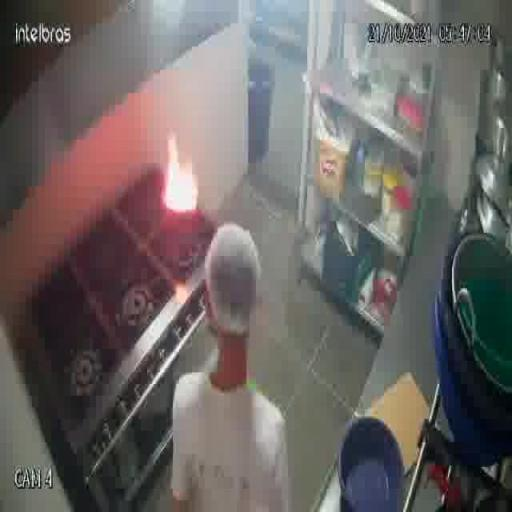smoke: (151, 98, 211, 248)
